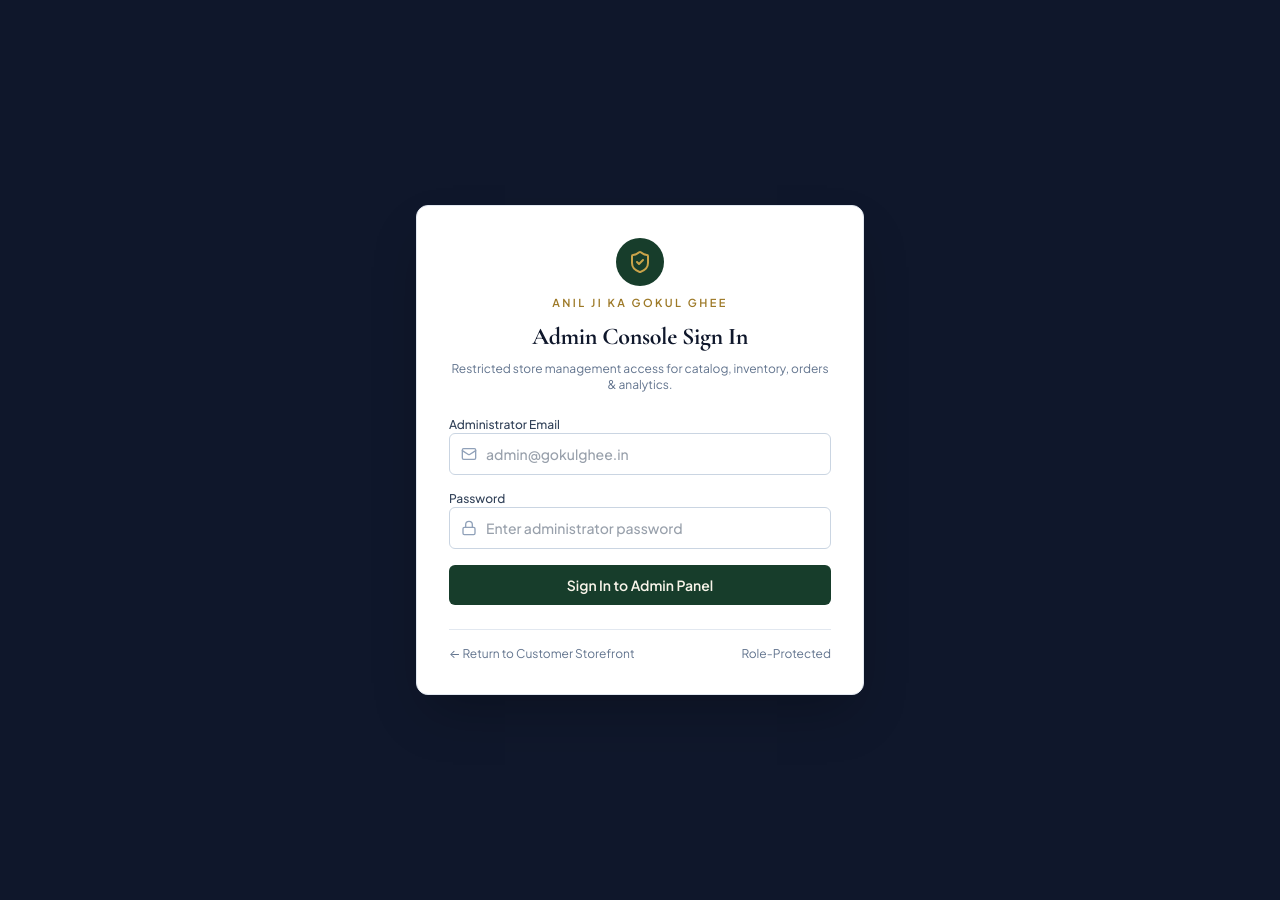
Test case: Phase 5 Dedicated Admin Console & Telemetry UI › authenticates admin onto independent /admin/dashboard (without customer storefront chrome) and navigates to /admin/ai-usage
The width and height of the screenshot is (1280, 900).
Type "owner@gokulghee.in" into the field labelled "Administrator Email" at {"x": 640, "y": 454}, box 449,433 -> 831,475
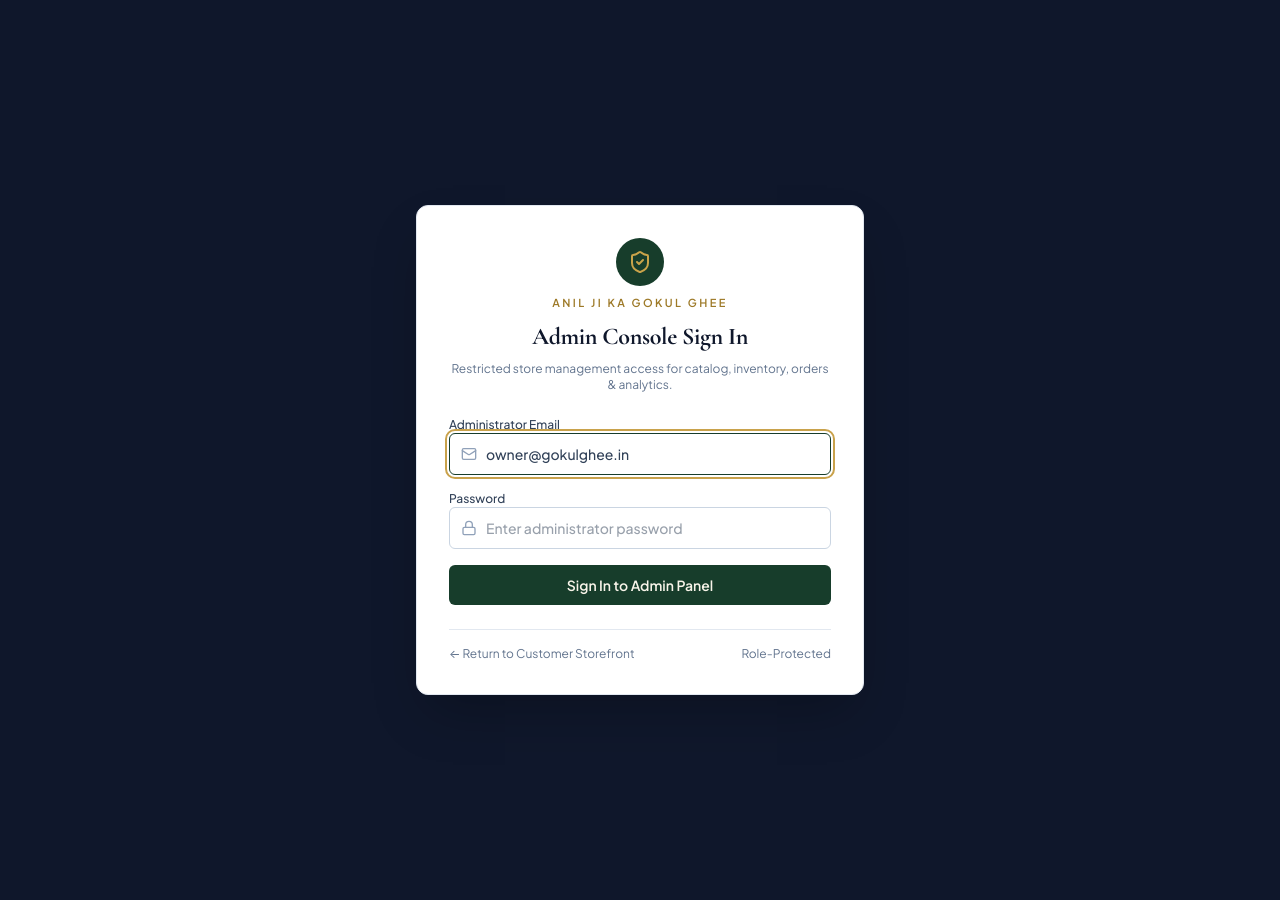
Type "OwnerPass123!" into the password field labelled "Password" at {"x": 640, "y": 528}, box 449,507 -> 831,549
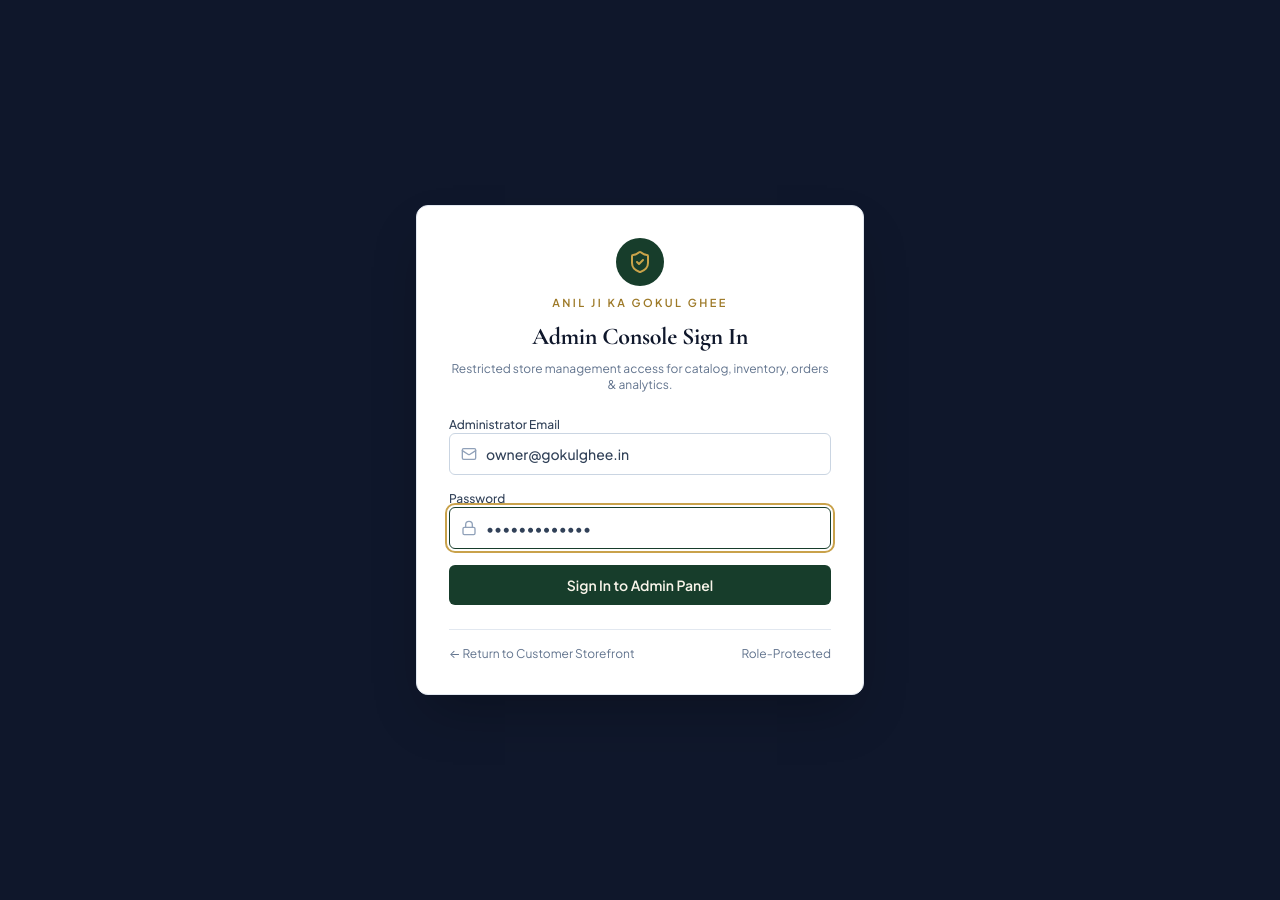
Click the button "Sign In to Admin Panel" at {"x": 640, "y": 585}, box 449,565 -> 831,605
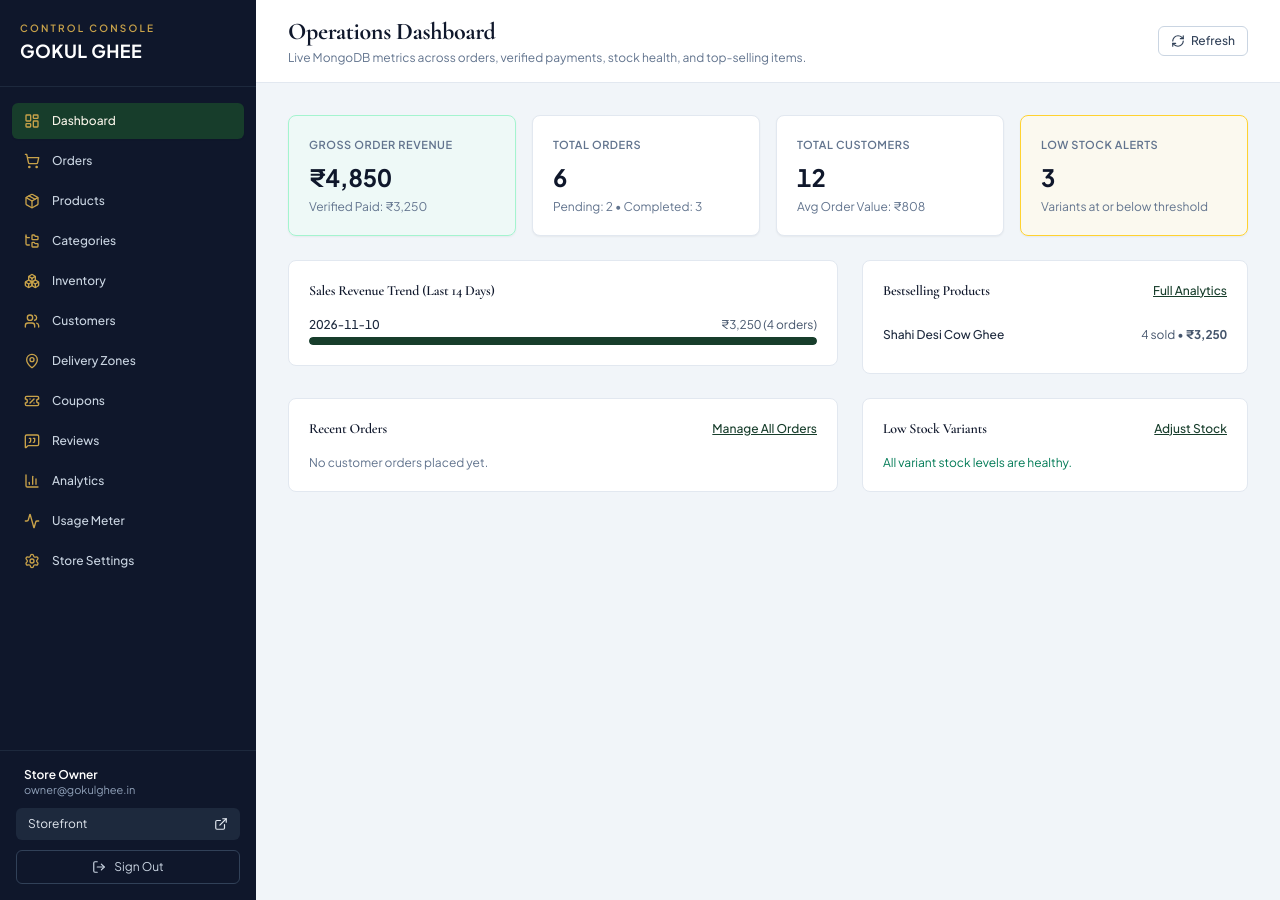
Check: the heading "Operations Dashboard" is shown, box 288,17 -> 496,46
Check: the text "Gross Order Revenue" is shown, box 309,138 -> 453,151
Check: the text "Verified Paid: ₹3,250" is shown, box 309,199 -> 427,214
# Navigate to AI Usage, Website Funnel & System Meter via sidebar
Click the link "Usage Meter" at {"x": 74, "y": 521}, box 24,513 -> 125,529
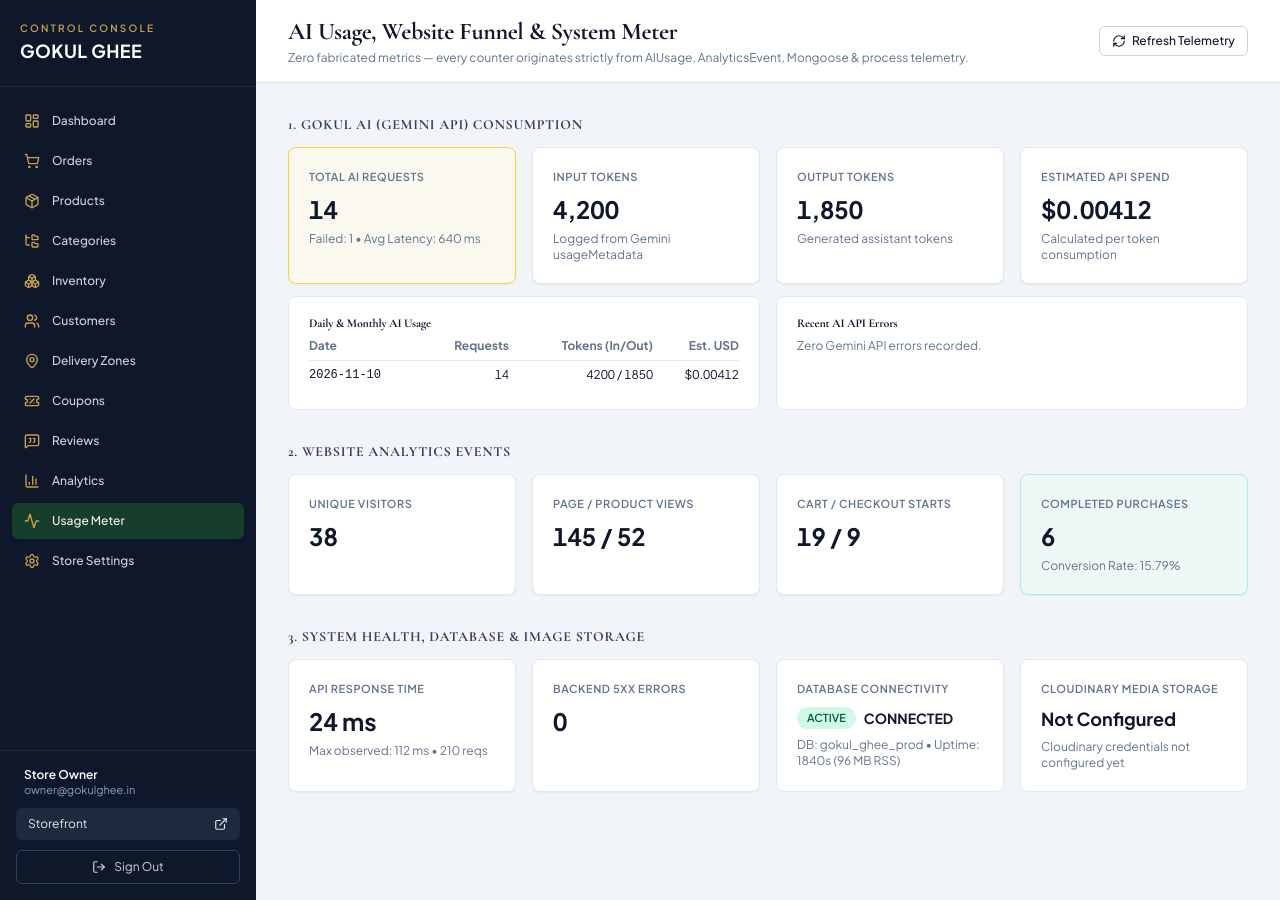
Check: the heading "AI Usage, Website Funnel & System Meter" is shown, box 288,17 -> 677,46
Check: the text "Input Tokens" is shown, box 553,170 -> 638,183
Check: the text "4,200" is shown, box 553,194 -> 619,224
